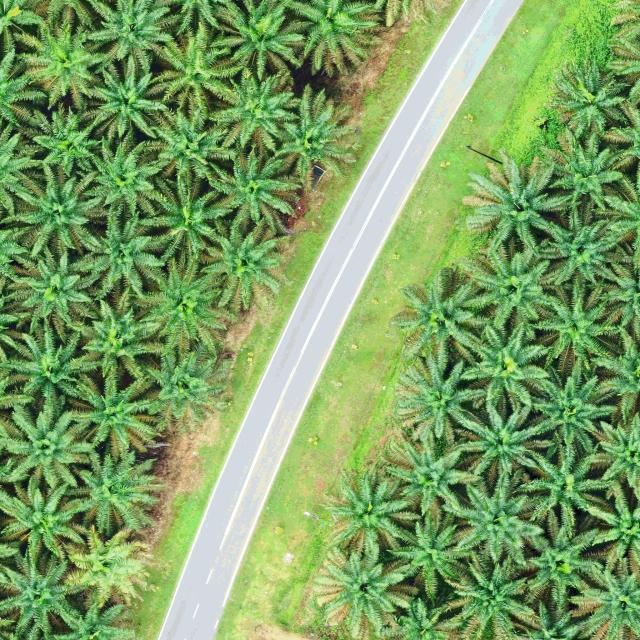Tree: (460, 149, 589, 260), (256, 84, 358, 198), (1, 162, 117, 261), (311, 540, 421, 640), (438, 465, 549, 564), (138, 251, 242, 356), (57, 444, 167, 539), (0, 240, 100, 344), (0, 315, 109, 410), (514, 438, 620, 530), (380, 506, 476, 607), (144, 19, 248, 112), (514, 504, 606, 609), (522, 280, 619, 379), (392, 269, 489, 368), (58, 366, 164, 456), (62, 284, 165, 376), (382, 434, 486, 524), (56, 524, 162, 610), (0, 403, 100, 494), (198, 145, 300, 233), (140, 102, 244, 188), (524, 360, 618, 455), (71, 207, 168, 299), (198, 218, 287, 318), (0, 547, 95, 640), (320, 469, 418, 559), (543, 50, 635, 145), (130, 176, 222, 271), (14, 20, 106, 114), (450, 398, 551, 483), (462, 242, 560, 329), (272, 1, 381, 78), (76, 54, 168, 145), (461, 319, 553, 409), (138, 339, 232, 427), (440, 553, 534, 640), (206, 0, 305, 80), (0, 481, 93, 564), (532, 128, 626, 210), (210, 67, 297, 155), (536, 204, 626, 288), (77, 133, 160, 222), (398, 356, 483, 442), (565, 550, 640, 640), (80, 0, 176, 64), (27, 102, 103, 176), (586, 406, 640, 491), (584, 489, 640, 562)
